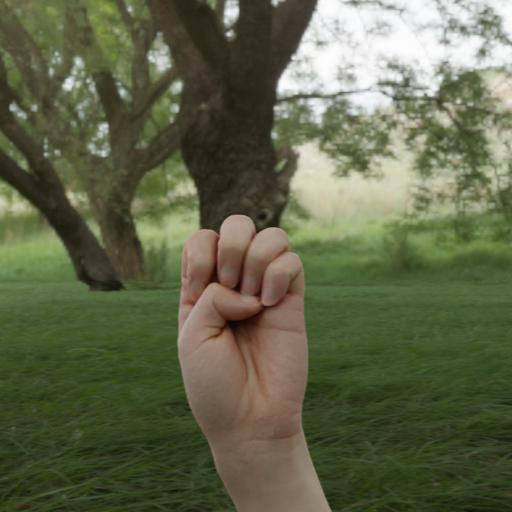E: (123, 188, 355, 430)
